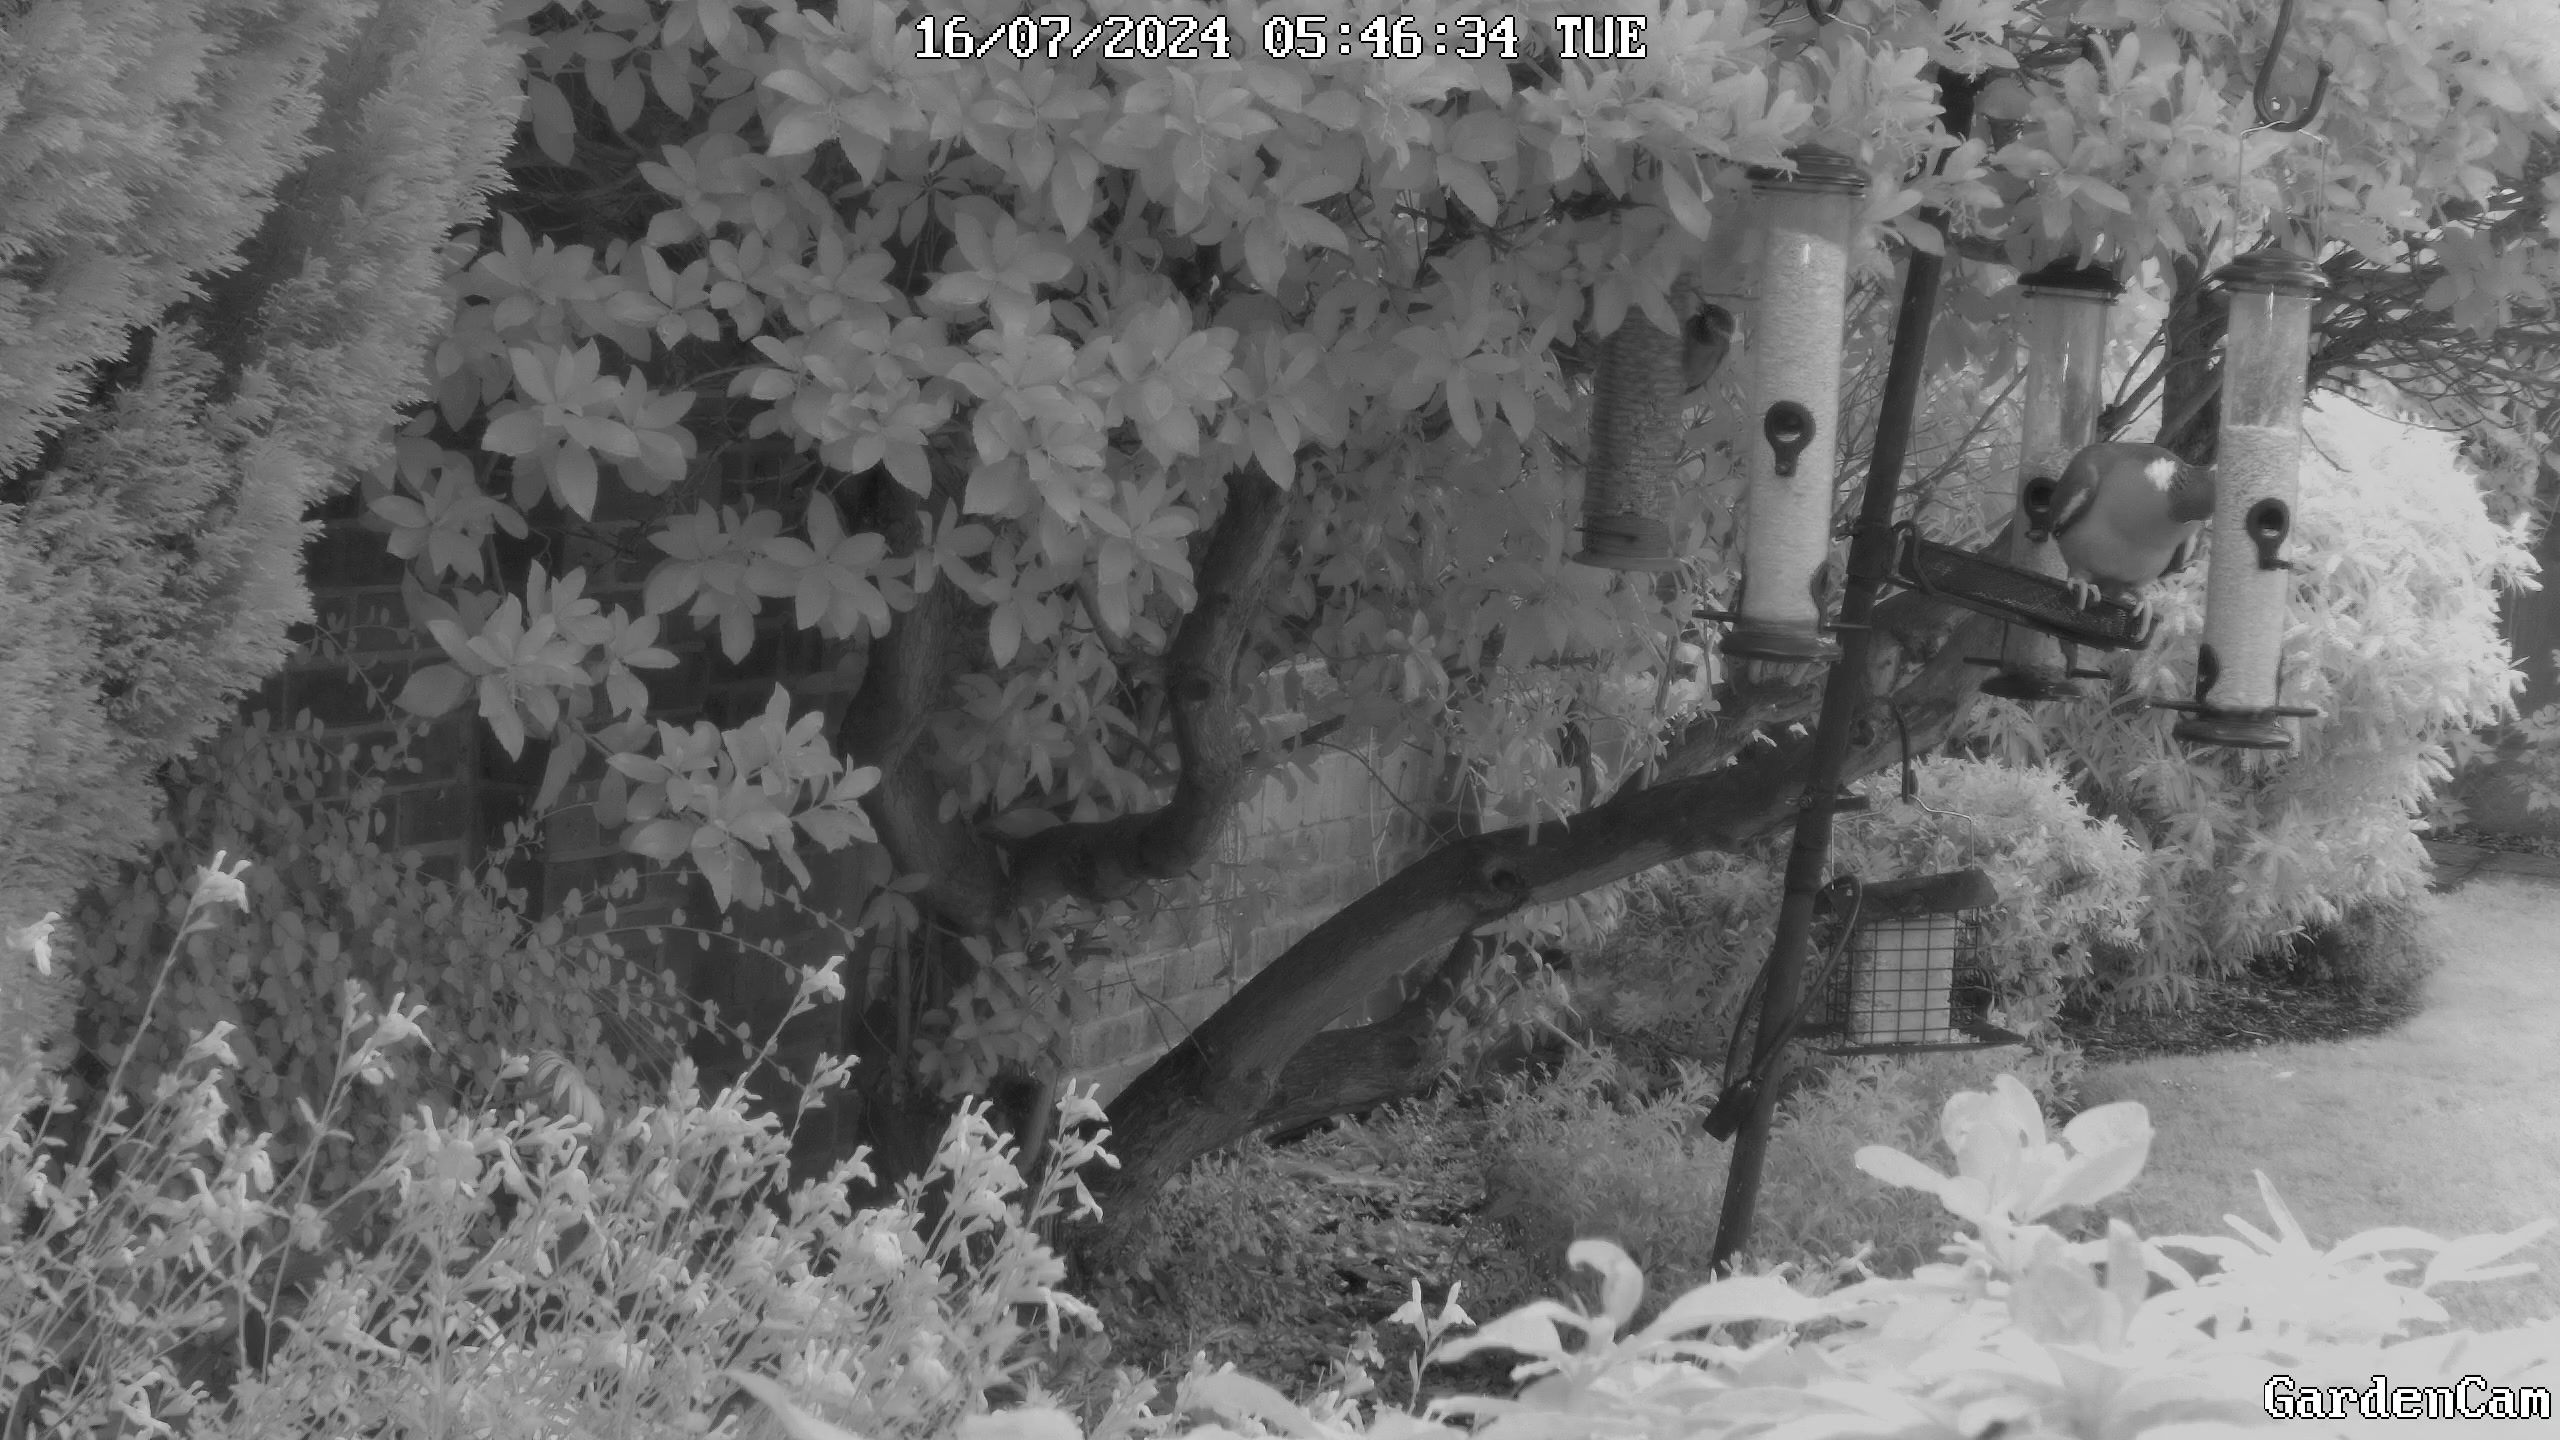House_Sparrow: (1676, 294, 1734, 403)
Wood_Pigeon: (1997, 410, 2226, 624)
